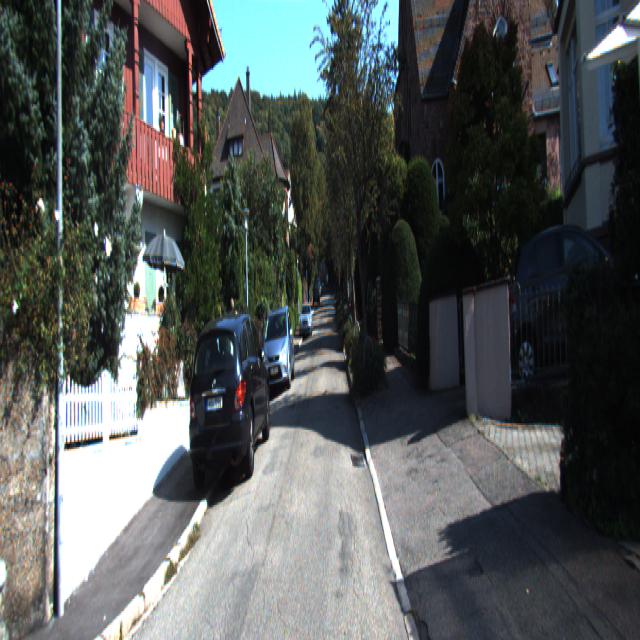Car: (514, 211, 640, 417), (188, 304, 272, 496), (261, 304, 295, 392), (300, 306, 313, 340)
